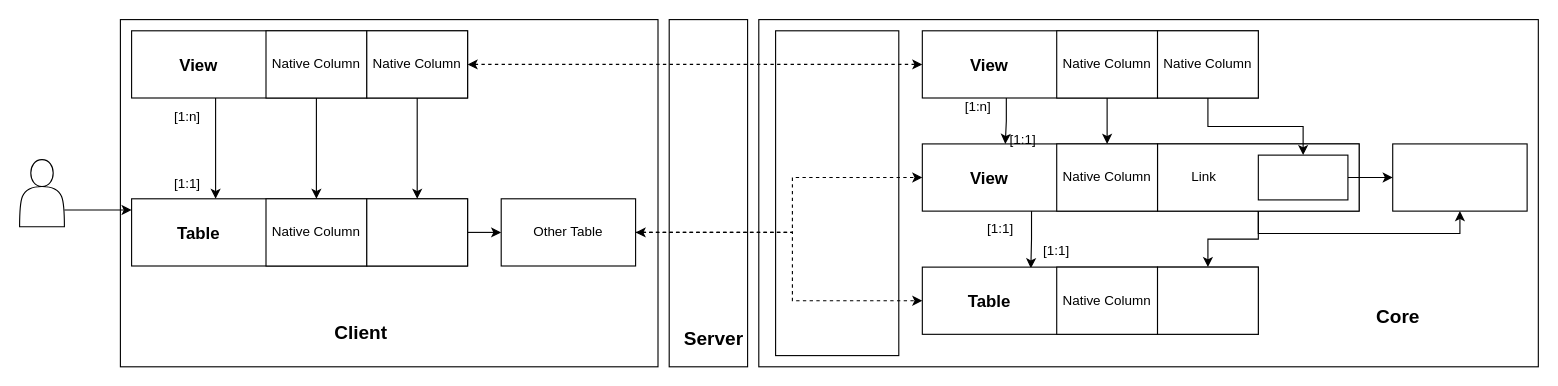
Some shapes in this 1558 by 386 pixel diagram are drawn without their labels. The shapes that lost their labels are listed below. From the top down, each one's centre as x and y in pixels, then its label:
the point at 836,193: dekanat-app -plugin
the point at 1302,177: Foreign Column
the point at 1459,177: Other View
the point at 417,232: Link Column
the point at 1207,300: Foreign Key
